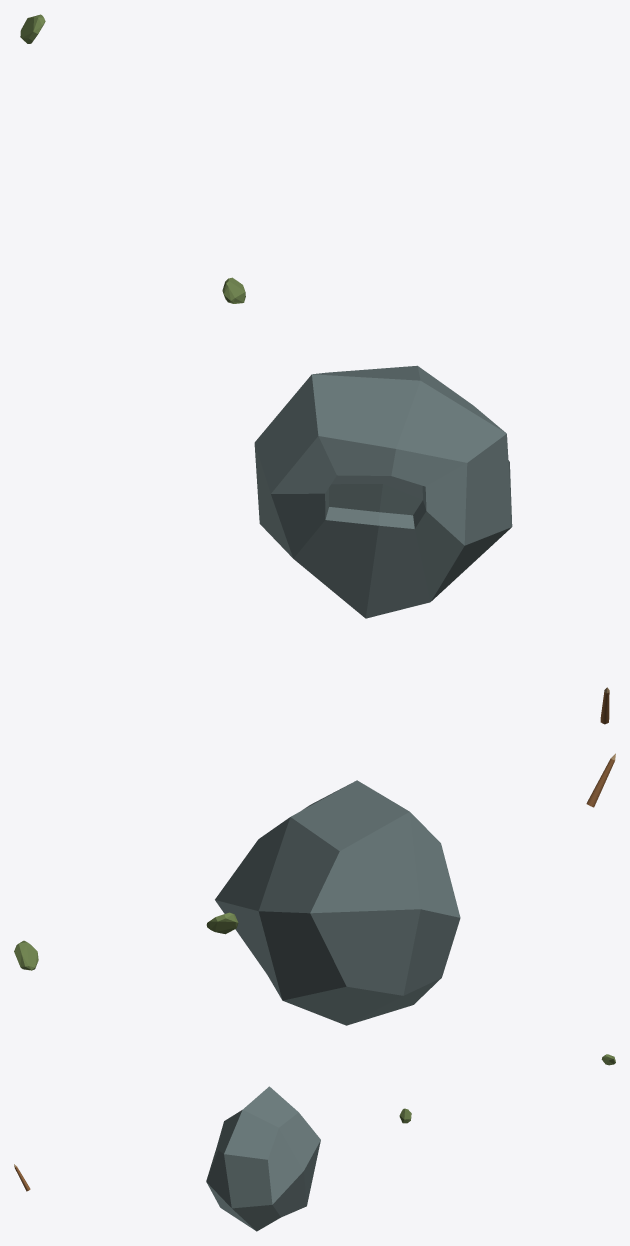
The picture shows the model from 3 angles, top to bottom: view 1: azimuth 30°, elevation 25°; view 2: azimuth 150°, elevation 25°; view 3: azimuth 270°, elevation 25°; orthographic projection. The views are drawn at different scales.
Parts seen in each view (by area): view 1: Box062_rock_0; view 2: Box062_rock_0, Box714_green3_0, Box691_green3_0, Cylinder1236_brown_0; view 3: Box062_rock_0.
Boxes of the visible parts, x1,y1,x2,y2 form: Box062_rock_0: (254,365,512,618); Box062_rock_0: (215,780,460,1025); Box714_green3_0: (14,940,38,970); Box691_green3_0: (206,912,238,934); Cylinder1236_brown_0: (586,758,614,807); Box062_rock_0: (206,1086,320,1231).
Size of the model in its own units: 651 by 812 by 2735.
